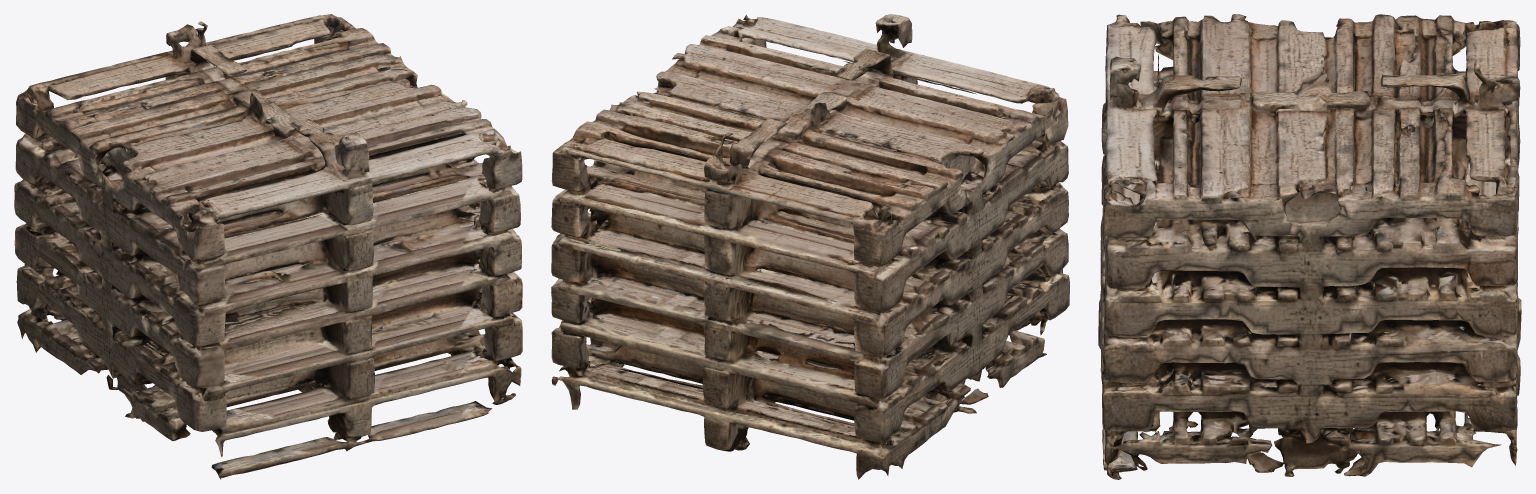
File: PalletStack.glb
3 views of the same model, side by side, from view 1: azimuth 30°, elevation 25°; view 2: azimuth 150°, elevation 25°; view 3: azimuth 270°, elevation 25° (orthographic). The views are drawn at different scales.
Visible parts, largest first — view 1: texture_mapping; view 2: texture_mapping; view 3: texture_mapping.
Boxes of the visible parts, x1,y1,x2,y2 form: texture_mapping: (14, 14, 522, 479); texture_mapping: (551, 14, 1069, 479); texture_mapping: (1098, 14, 1521, 479).
Bounding box in the file's own units: 1 × 0.8872 × 0.9791.
Materials: 1 (1 with a texture image).
